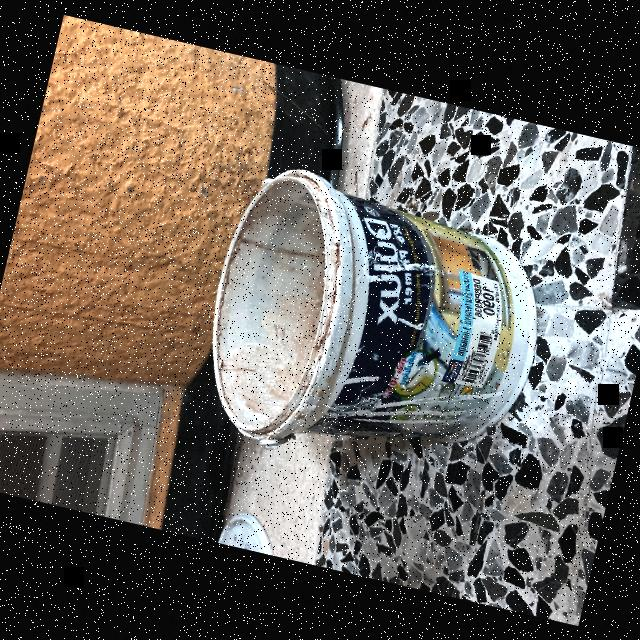paint_bucket: (179, 151, 565, 499)
